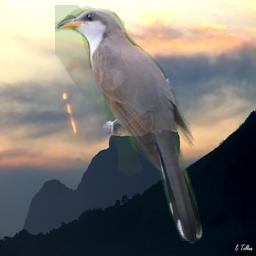Cuckoo: (55, 5, 208, 246)
